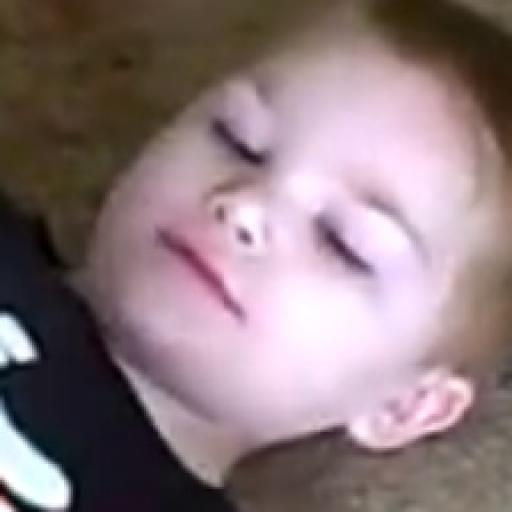Autism: (84, 27, 512, 452)
